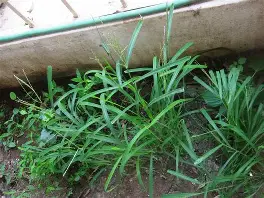weed: (32, 57, 261, 196)
